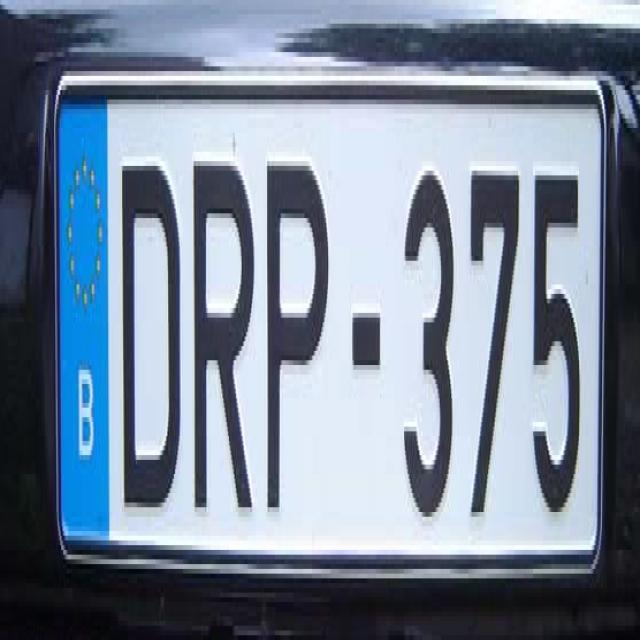Belgique: (58, 95, 110, 545)
EU: (54, 88, 601, 557)
